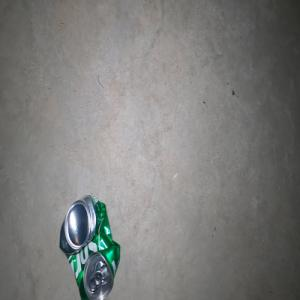SodaCan: (59, 194, 120, 300)
